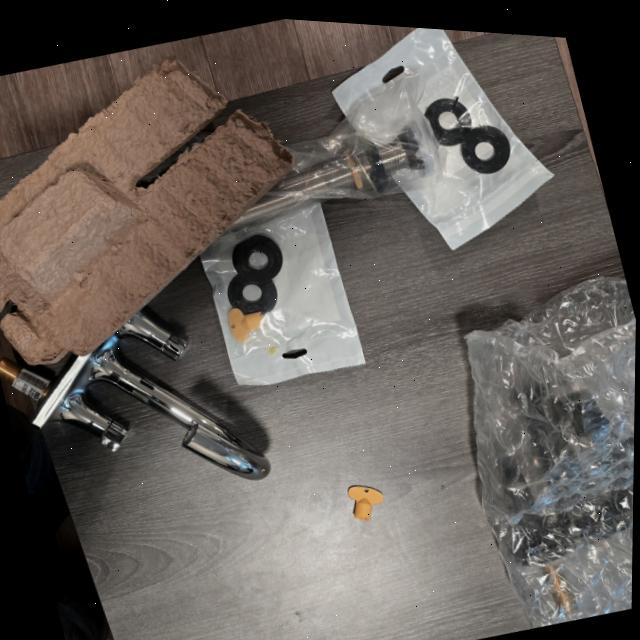10o: (11, 311, 268, 473)
12o: (200, 201, 363, 384)
13o: (332, 28, 550, 248)
14: (346, 484, 382, 519)
9c: (466, 276, 636, 628)
